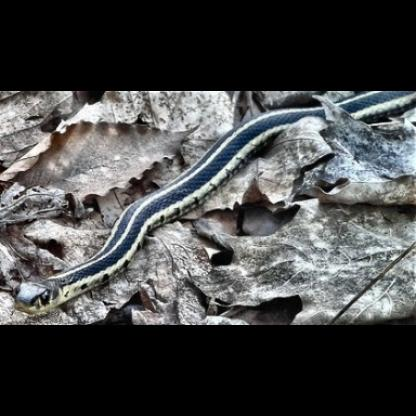Snake: (9, 90, 215, 320)
